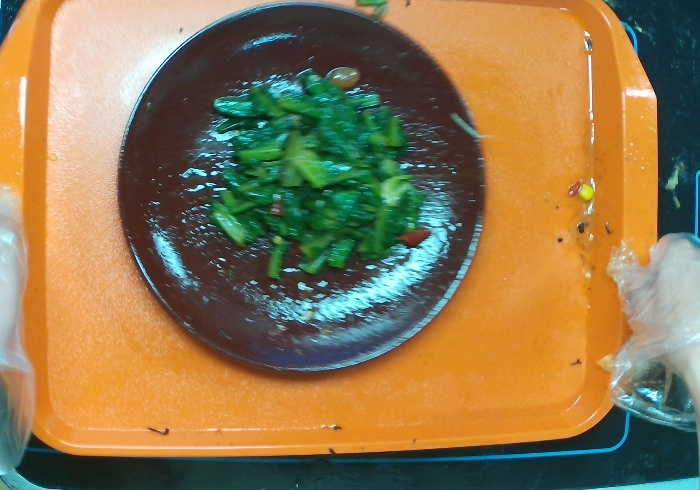HZYJPL-Ka_Fei_Yuan_Pan: (117, 1, 488, 372)
